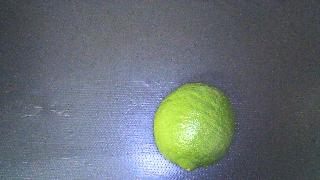EXPORTACION: (154, 83, 235, 171)
